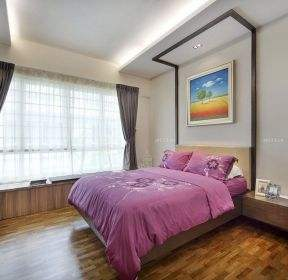床: (66, 165, 243, 261)
枕头: (156, 147, 239, 183)
灯: (192, 44, 201, 50)
